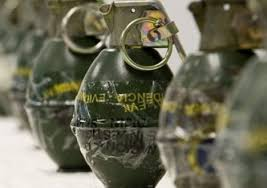e1: (75, 1, 175, 188)
